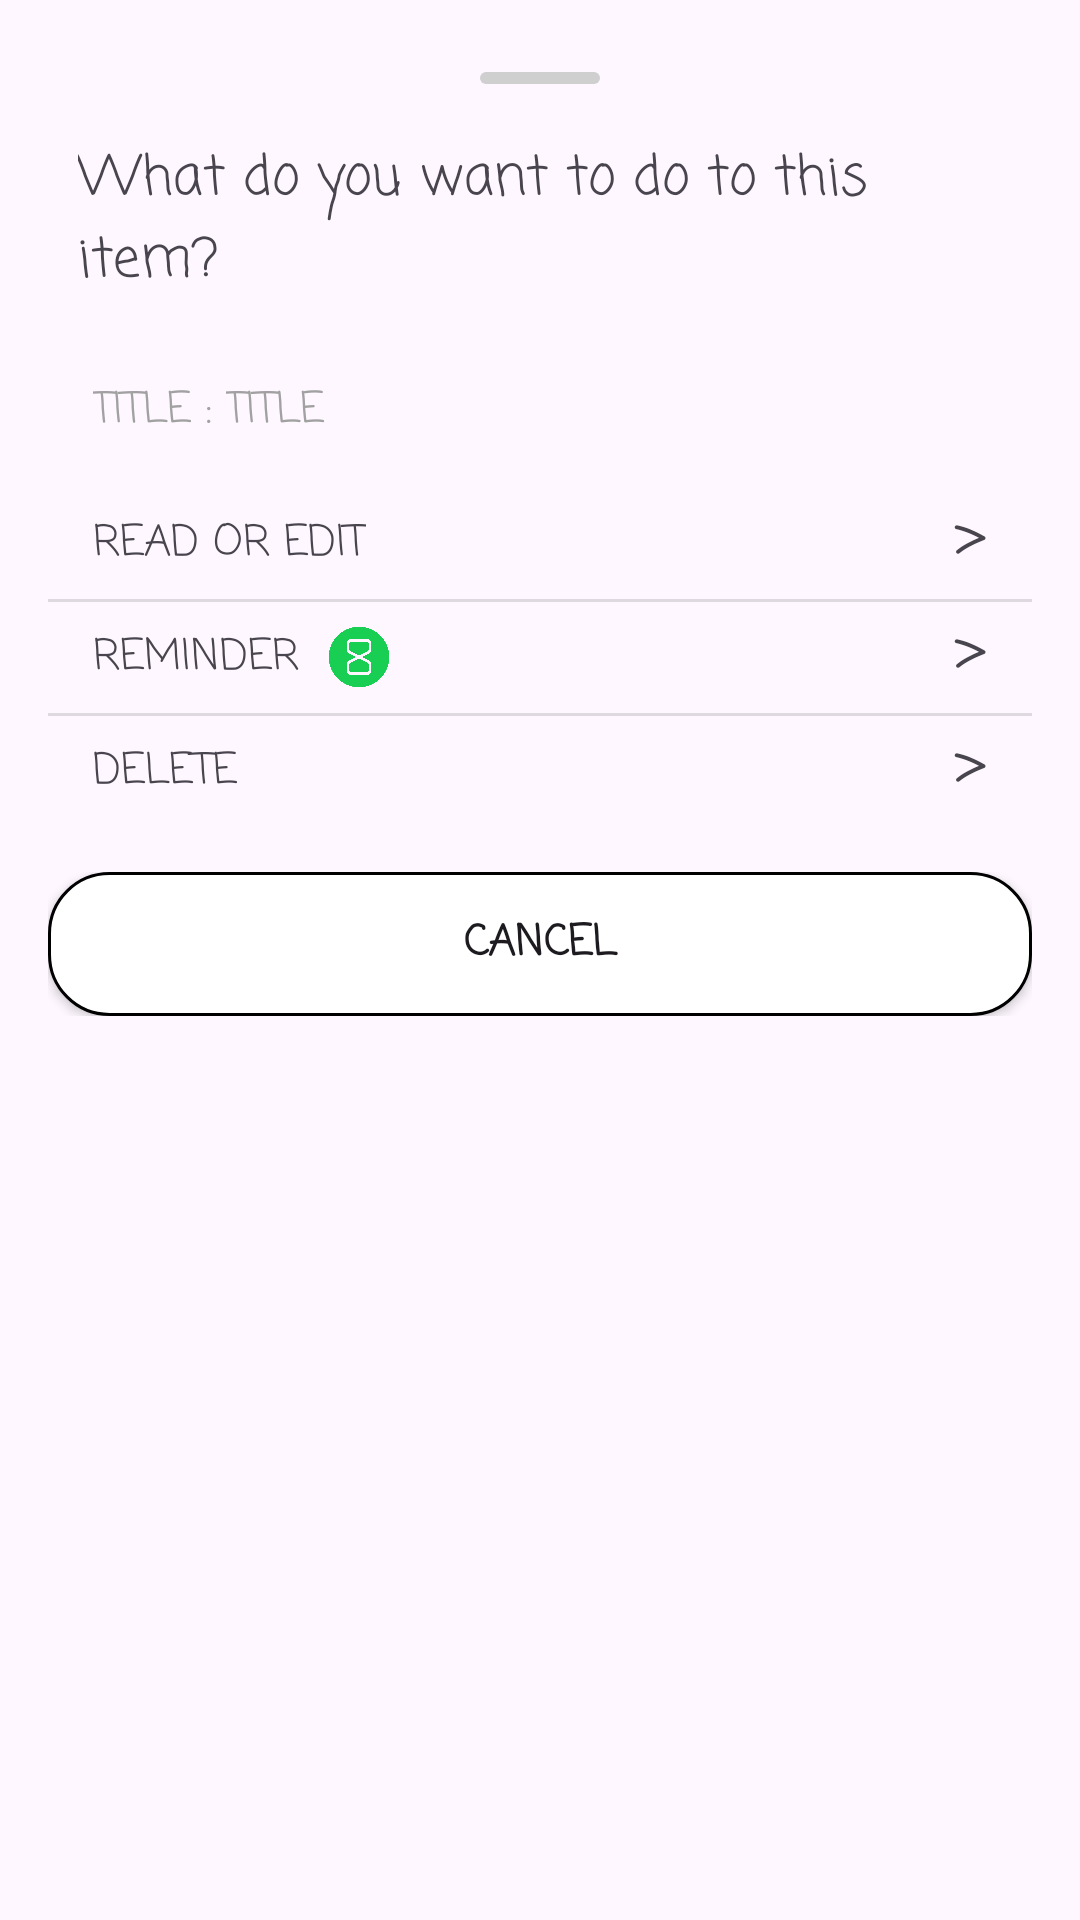

Locate icon controls on the screen. Image size 1080 × 1920, boxes as (x1, y1, x2, y2).
timer: (329, 627, 389, 687)
